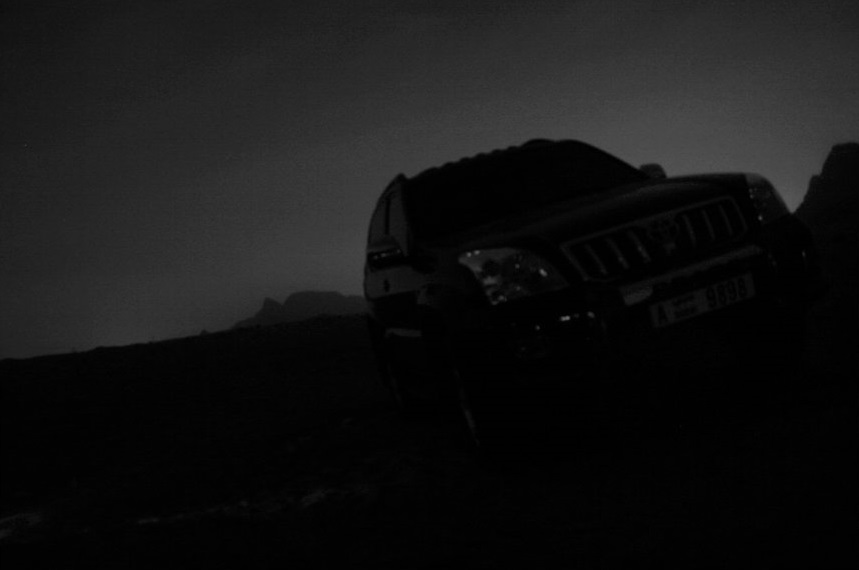car: (354, 132, 820, 424)
